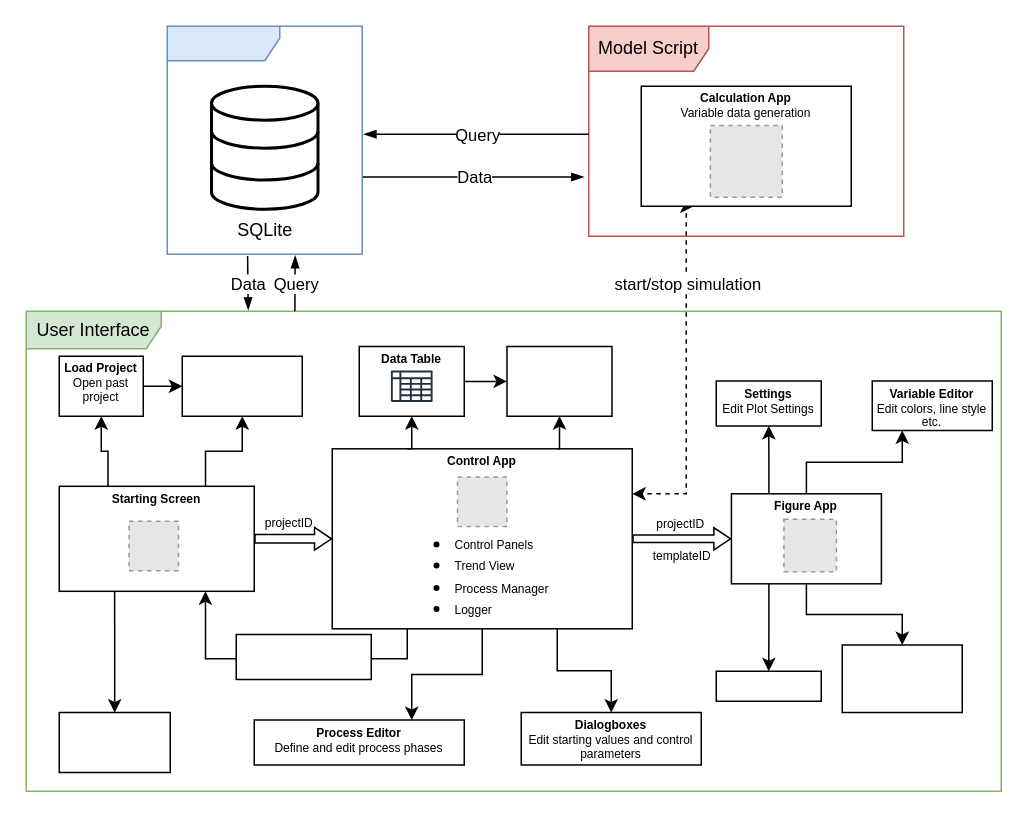
Some shapes in this 1028 by 818 pixel diagram are drawn without their labels. Grey dashed boxes stand in for pictures. The centre of each missing label's shape, as x and y in pixels:
"Create Project Create a project based on a model" goes at (x=241, y=385).
"Data Export *.csv *.xlsx *.txt" goes at (x=559, y=380).
"Database" goes at (x=264, y=139).
"Exit Screen Save or delete project" goes at (x=303, y=656).
"Figure Export" goes at (x=768, y=685).
"Model Manager Create and edit models" goes at (x=114, y=741).
"Template Creator Quick access for preferred variable combinations" goes at (x=901, y=678).
